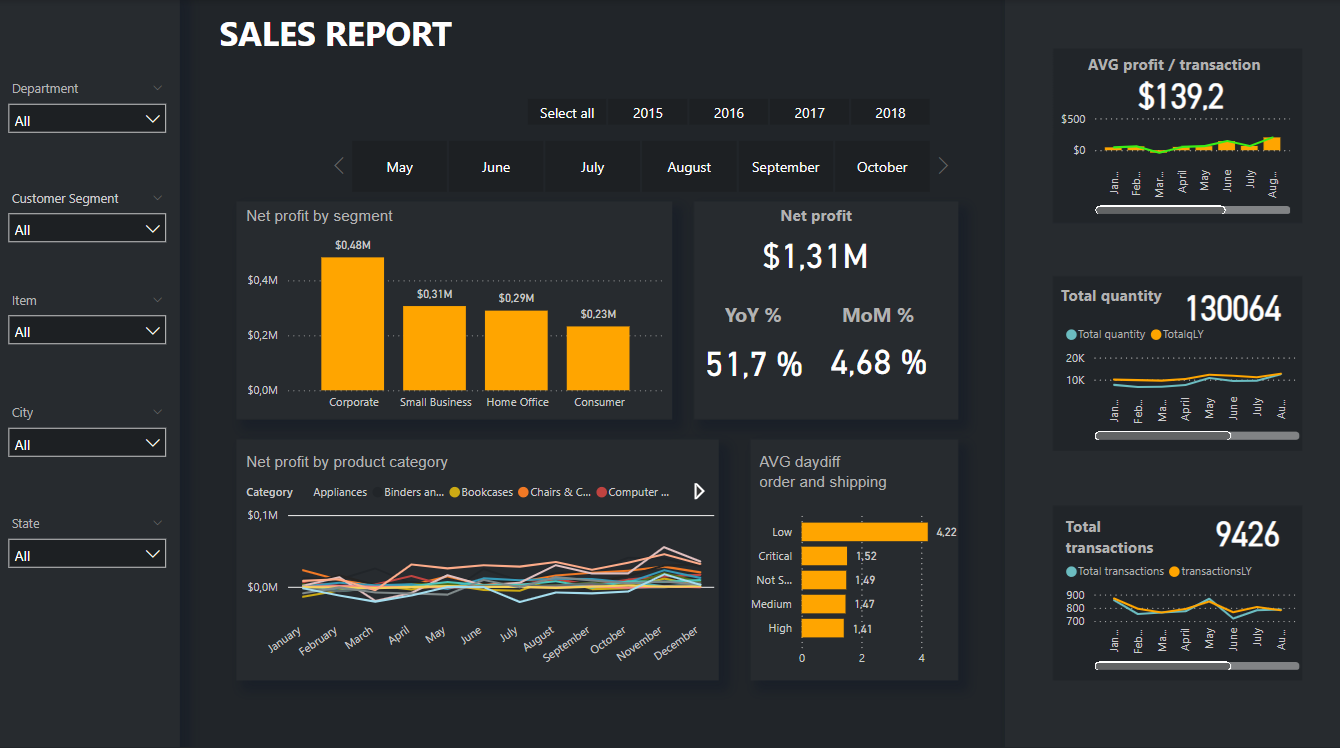

Layout of this report page (visuals, bound fields, positions):
{"tool":"powerbi","page":{"name":"Sales overview ","canvas":[1280,720],"ordinal":0},"visuals":[{"type":"textbox","box":[231.5,193.7,160.7,41],"z":0},{"type":"textbox","box":[205.7,8.6,304.9,63.3],"z":1000},{"type":"textbox","box":[231.5,428.6,254.5,51.8],"z":2000},{"type":"textbox","box":[740.6,194.1,87.7,51.8],"z":3000},{"type":"textbox","box":[720.5,428.6,191.3,51.8],"z":4000},{"type":"textbox","box":[1011,490.4,159.6,71.9],"z":5000},{"type":"columnChart","fields":{"Category":["CustomerDim.Customer Segment"],"Y":["TransactionFact.Total profit"]},"box":[231.5,214.3,408.4,189.8],"z":6000},{"type":"lineChart","fields":{"Series":["ProductDim.Category"],"Y":["TransactionFact.Total profit"],"Category":["DateDim.Monthname"]},"box":[231.5,454.4,455.9,194.1],"z":7000},{"type":"barChart","fields":{"Category":["TransactionFact.Order Priority"],"Y":["Avg(TransactionFact.shipmentdiff)"]},"box":[700.4,480.3,224.3,168.3],"z":8000},{"type":"card","fields":{"Values":["TransactionFact.Total orders"]},"box":[1116,490.4,148.1,40.3],"z":9000},{"type":"lineChart","fields":{"Y":["TransactionFact.Total orders"],"Y2":["Measure.transactionsLY"],"Category":["DateDim.Monthname"]},"box":[1011,530.7,233,117.9],"z":10000},{"type":"textbox","box":[1006.7,270.4,142.4,73.3],"z":11000},{"type":"card","fields":{"Values":["Measure.Total quantity"]},"box":[1116,268.9,119.4,53.2],"z":12000},{"type":"lineChart","fields":{"Y":["Measure.Total quantity"],"Y2":["Measure.TotalqLY"],"Category":["DateDim.Monthname"]},"box":[1010.9,304.3,232.9,124.2],"z":13000},{"type":"textbox","box":[1032.9,49.6,232.6,86.9],"z":14000},{"type":"card","fields":{"Values":["Measure.avgtransvalue"]},"box":[1040.4,71.5,172.7,43.7],"z":15000},{"type":"lineStackedColumnComboChart","fields":{"Y":["Measure.avgtransvalue"],"Y2":["Measure.avgtransvalue"],"Category":["DateDim.Monthname"]},"box":[1006.7,97.8,228.7,116.5],"z":16000},{"type":"slicer","fields":{"Values":["CustomerDim.Customer Segment"]},"box":[0,180.1,169.7,60.4],"z":17000},{"type":"slicer","fields":{"Values":["DateDim.Year"]},"box":[478.9,92,432.9,38.8],"z":18000},{"type":"slicer","fields":{"Values":["DateDim.Monthname"]},"box":[312.1,130.9,599.7,63.3],"z":19000},{"type":"slicer","fields":{"Values":["ProductDim.Item"]},"box":[0,276.8,169.7,106.4],"z":20000},{"type":"slicer","fields":{"Values":["ProductDim.Department"]},"box":[0,76.2,169.7,71.9],"z":21000},{"type":"slicer","fields":{"Values":["StoreDim.City"]},"box":[0,384,169.7,97.8],"z":22000},{"type":"slicer","fields":{"Values":["StoreDim.State"]},"box":[0,490.4,169.7,94.9],"z":23000},{"type":"card","fields":{"Values":["Measure.Total profit"]},"box":[665.8,201.3,224.3,87.7],"z":24000},{"type":"card","fields":{"Values":["Measure.YoY%"]},"box":[652.9,314.9,132.3,69],"z":25000},{"type":"textbox","box":[687.4,286.2,84.8,57.5],"z":26000},{"type":"card","fields":{"Values":["Measure.MoM %"]},"box":[763.6,309.2,148.1,76.2],"z":27000},{"type":"textbox","box":[798.2,286.2,102.1,36],"z":28000}]}

Visuals, with their boxes in screenshot pixels (x1, y1, x2, y2), scaled from the page's 1280x720 canvas onto the 1340x748 screenshot:
textbox: <region>242, 201, 411, 244</region>
textbox: <region>215, 9, 535, 75</region>
textbox: <region>242, 445, 509, 499</region>
textbox: <region>775, 202, 867, 255</region>
textbox: <region>754, 445, 955, 499</region>
textbox: <region>1058, 509, 1225, 584</region>
columnChart - CustomerDim.Customer Segment x TransactionFact.Total profit: <region>242, 223, 670, 420</region>
lineChart - ProductDim.Category x TransactionFact.Total profit: <region>242, 472, 720, 674</region>
barChart - TransactionFact.Order Priority x Avg(TransactionFact.shipmentdiff): <region>733, 499, 968, 674</region>
card - TransactionFact.Total orders: <region>1168, 509, 1323, 551</region>
lineChart - TransactionFact.Total orders x Measure.transactionsLY: <region>1058, 551, 1302, 674</region>
textbox: <region>1054, 281, 1203, 357</region>
card - Measure.Total quantity: <region>1168, 279, 1293, 335</region>
lineChart - Measure.Total quantity x Measure.TotalqLY: <region>1058, 316, 1302, 445</region>
textbox: <region>1081, 52, 1325, 142</region>
card - Measure.avgtransvalue: <region>1089, 74, 1270, 120</region>
lineStackedColumnComboChart - Measure.avgtransvalue x Measure.avgtransvalue: <region>1054, 102, 1293, 223</region>
slicer - CustomerDim.Customer Segment: <region>0, 187, 178, 250</region>
slicer - DateDim.Year: <region>501, 96, 955, 136</region>
slicer - DateDim.Monthname: <region>327, 136, 955, 202</region>
slicer - ProductDim.Item: <region>0, 288, 178, 398</region>
slicer - ProductDim.Department: <region>0, 79, 178, 154</region>
slicer - StoreDim.City: <region>0, 399, 178, 501</region>
slicer - StoreDim.State: <region>0, 509, 178, 608</region>
card - Measure.Total profit: <region>697, 209, 932, 300</region>
card - Measure.YoY%: <region>684, 327, 822, 399</region>
textbox: <region>720, 297, 808, 357</region>
card - Measure.MoM %: <region>799, 321, 954, 400</region>
textbox: <region>836, 297, 943, 335</region>
